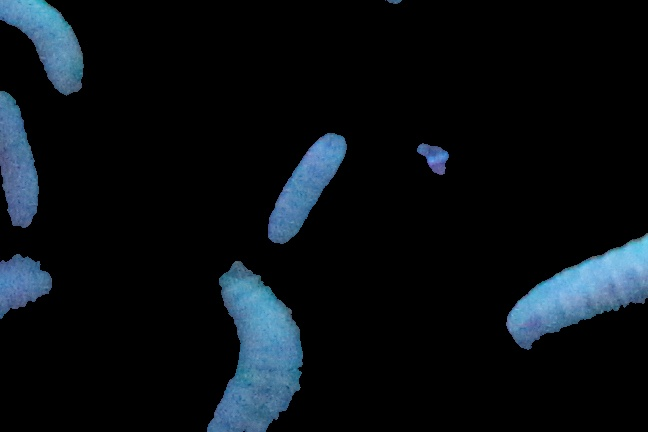larvae: (505, 242, 648, 349), (206, 278, 306, 426), (257, 138, 346, 244), (1, 1, 97, 89), (1, 98, 54, 241)
